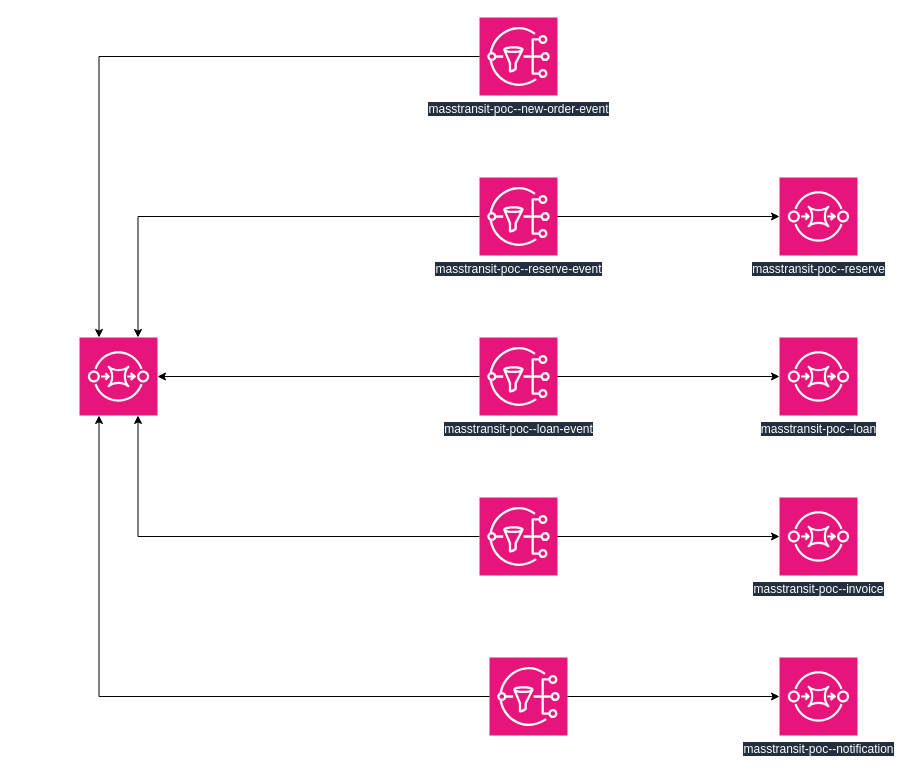
This 911x774 diagram has some shape labels left out. The shapes that lost their labels are listed below. From the top down, each one's centre as x and y in pixels, then its label:
At (x=118, y=376): "masstransit-poc--exchange-state-data".
At (x=518, y=536): "masstransit-poc--invoice-event".
At (x=528, y=696): "masstransit-poc--notification-event".
